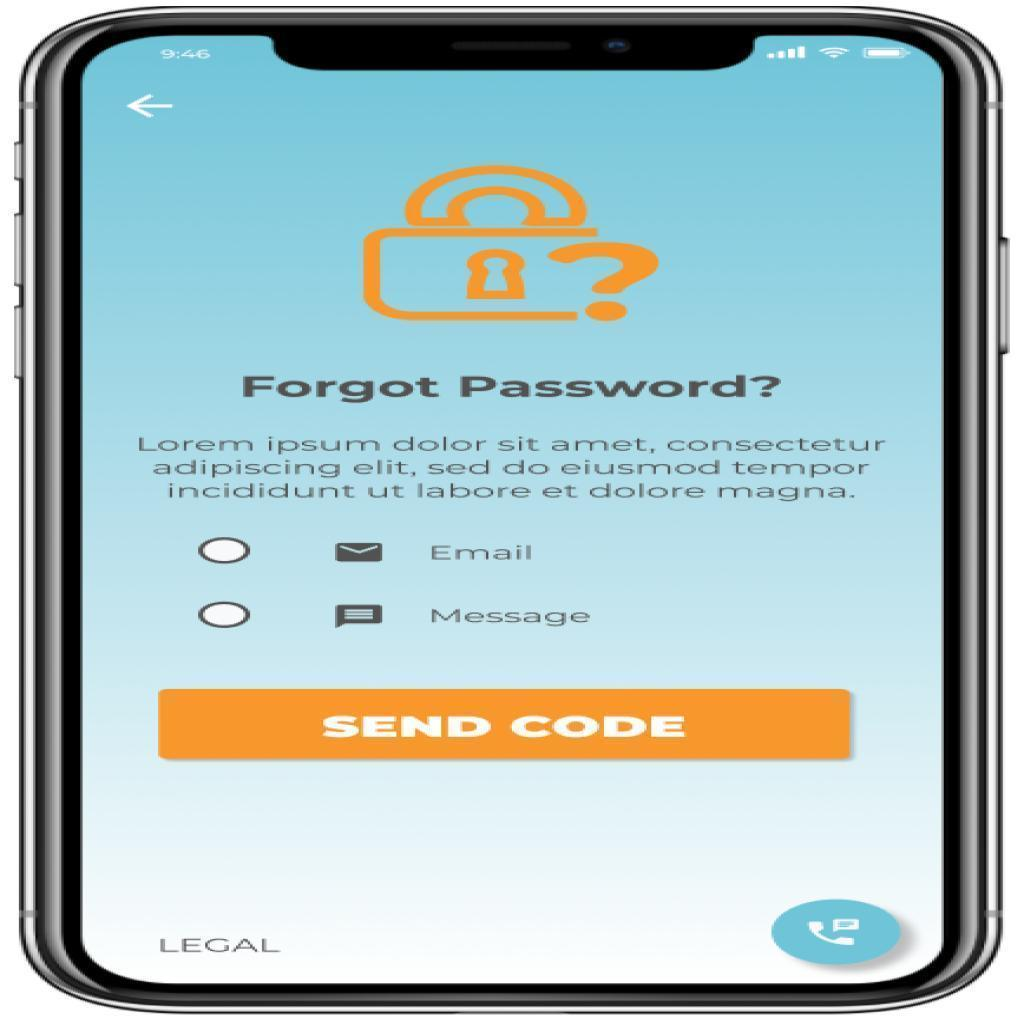button: (159, 688, 851, 762)
icon: (329, 595, 392, 634), (330, 534, 387, 571)
label: (425, 601, 605, 637), (422, 536, 537, 570)
radio: (196, 598, 255, 634), (196, 534, 256, 568)
